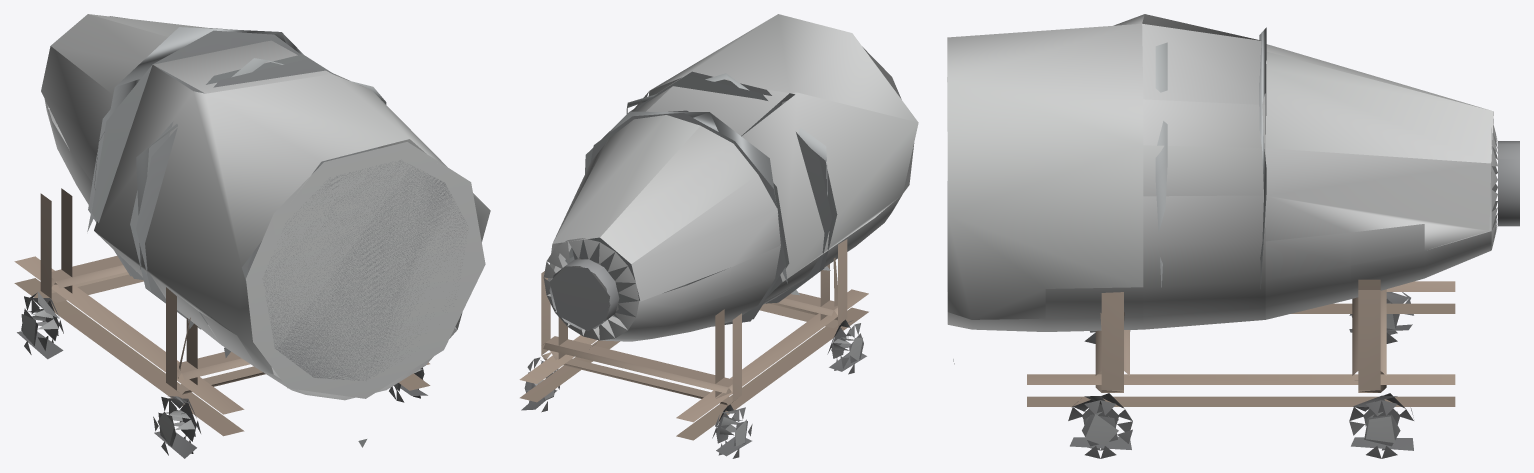
The model's file is engine.lod.glb.
3 renders of one model, left to right at view 1: azimuth 30°, elevation 25°; view 2: azimuth 150°, elevation 25°; view 3: azimuth 270°, elevation 25°, orthographic. The views are drawn at different scales.
Parts seen in each view (by area): view 1: engine.001; view 2: engine.001; view 3: engine.001.
Boxes of the visible parts, x1,y1,x2,y2 form: engine.001: (14, 14, 490, 458); engine.001: (519, 14, 918, 458); engine.001: (947, 14, 1519, 458).
Bounding box in the file's own units: 2.48 × 3.21 × 4.69.
